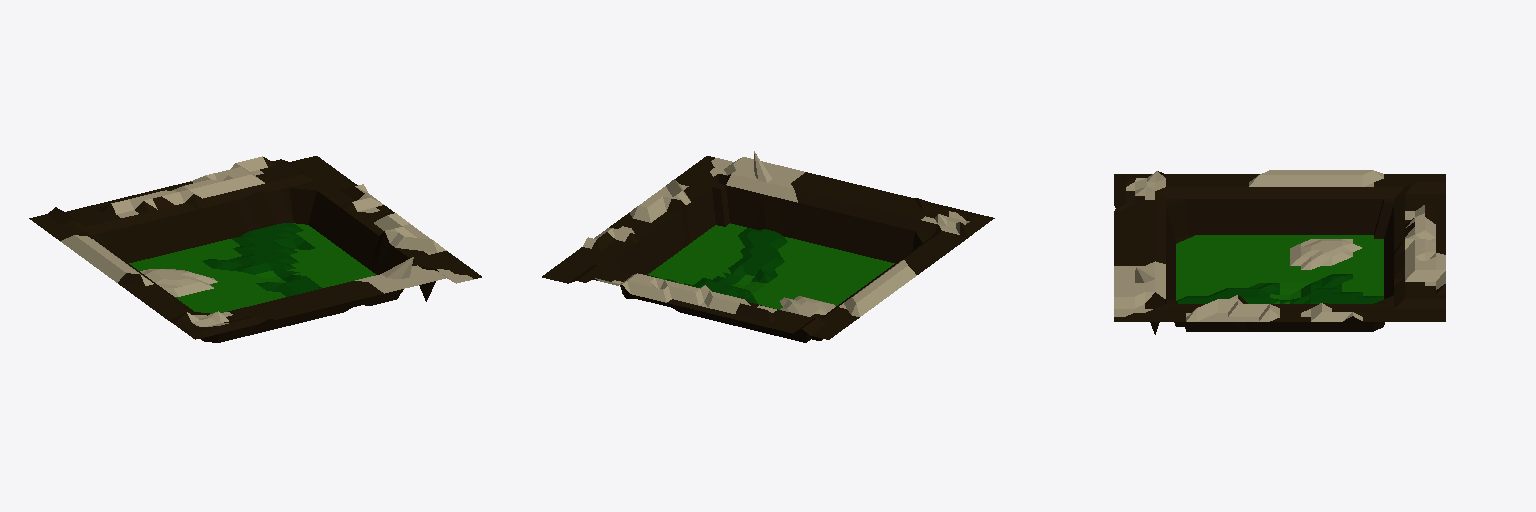
The model's file is Level4.obj.
The picture shows the model from 3 angles: view 1: azimuth 30°, elevation 25°; view 2: azimuth 150°, elevation 25°; view 3: azimuth 270°, elevation 25°; orthographic projection.
Visible parts, largest first — view 1: Plane; view 2: Plane; view 3: Plane.
Part boxes in pixels (bbox=[...]): Plane: bbox=[29, 156, 481, 342]; Plane: bbox=[542, 151, 994, 342]; Plane: bbox=[1114, 170, 1445, 334].
Size of the model in its own units: 386 by 80.58 by 386.